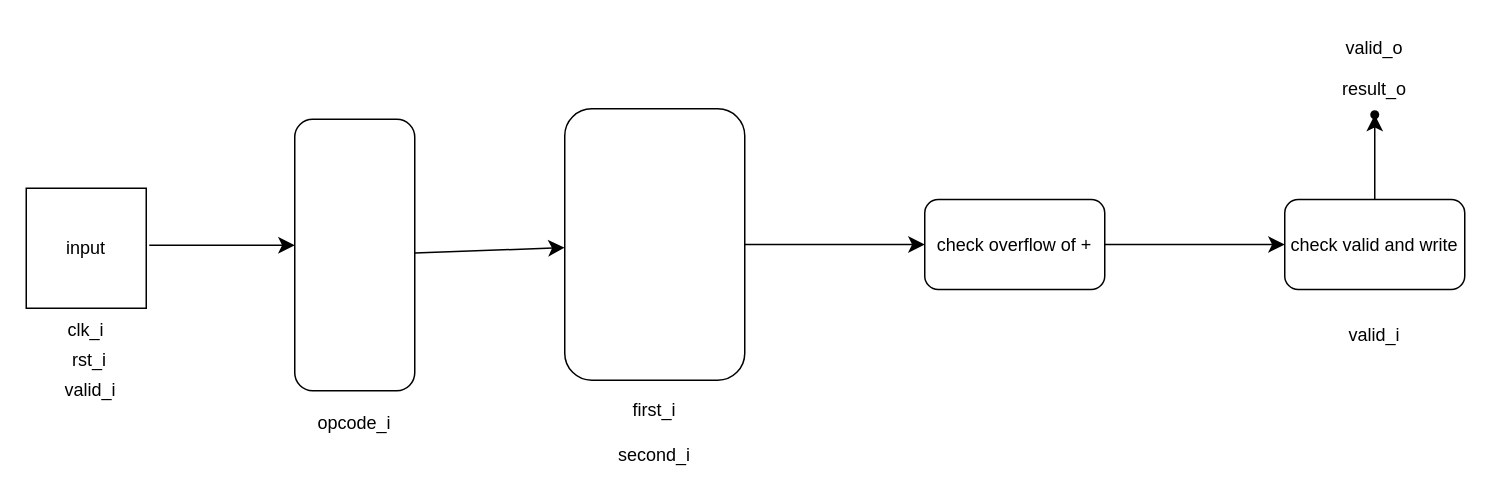
This 1491x503 diagram has some shape labels left out. The centre of each missing label's shape, as x and y in pixels:
combination logic: operations + <= << NOR: point 654,243
multiplexer (choose operations): point 354,254
